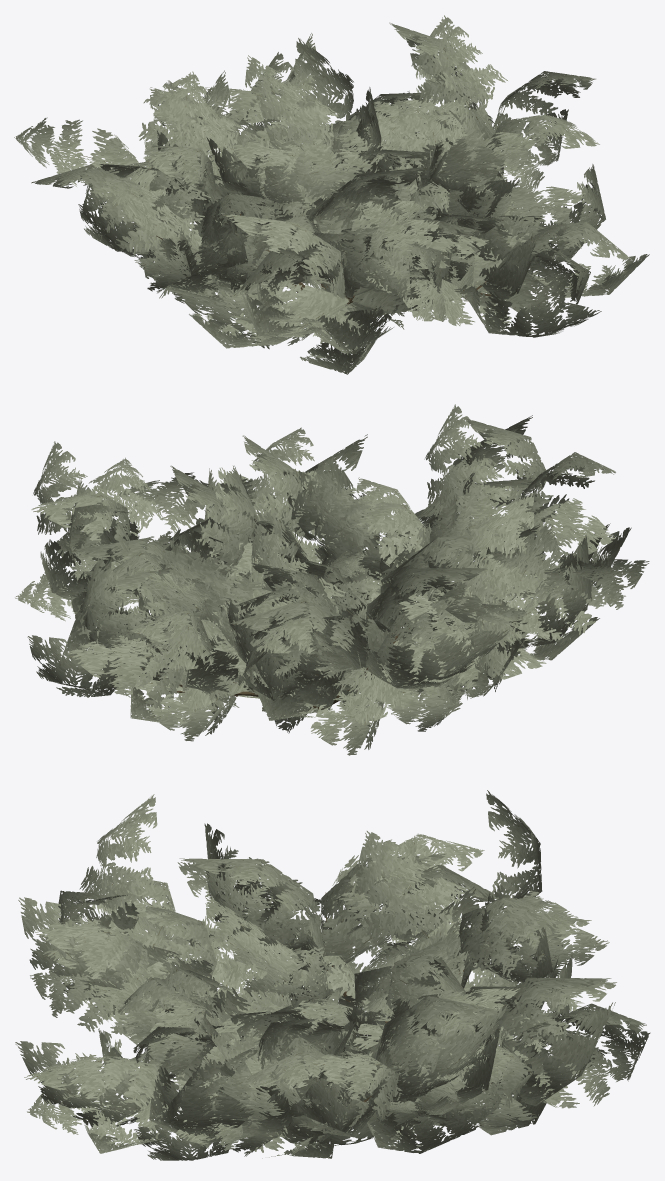
The model's file is SM_CN_Sage_C_LOD1.fbx.
3 renders of one model, top to bottom at view 1: azimuth 30°, elevation 25°; view 2: azimuth 150°, elevation 25°; view 3: azimuth 270°, elevation 25°, orthographic. The views are drawn at different scales.
Parts seen in each view (by area): view 1: SM_CN_Sage_C_LOD1; view 2: SM_CN_Sage_C_LOD1; view 3: SM_CN_Sage_C_LOD1.
Boxes of the visible parts, x1,y1,x2,y2 form: SM_CN_Sage_C_LOD1: [14, 15, 649, 374]; SM_CN_Sage_C_LOD1: [15, 404, 649, 755]; SM_CN_Sage_C_LOD1: [15, 790, 650, 1160].
Bounding box in the file's own units: 0.838 × 0.84 × 0.34.
